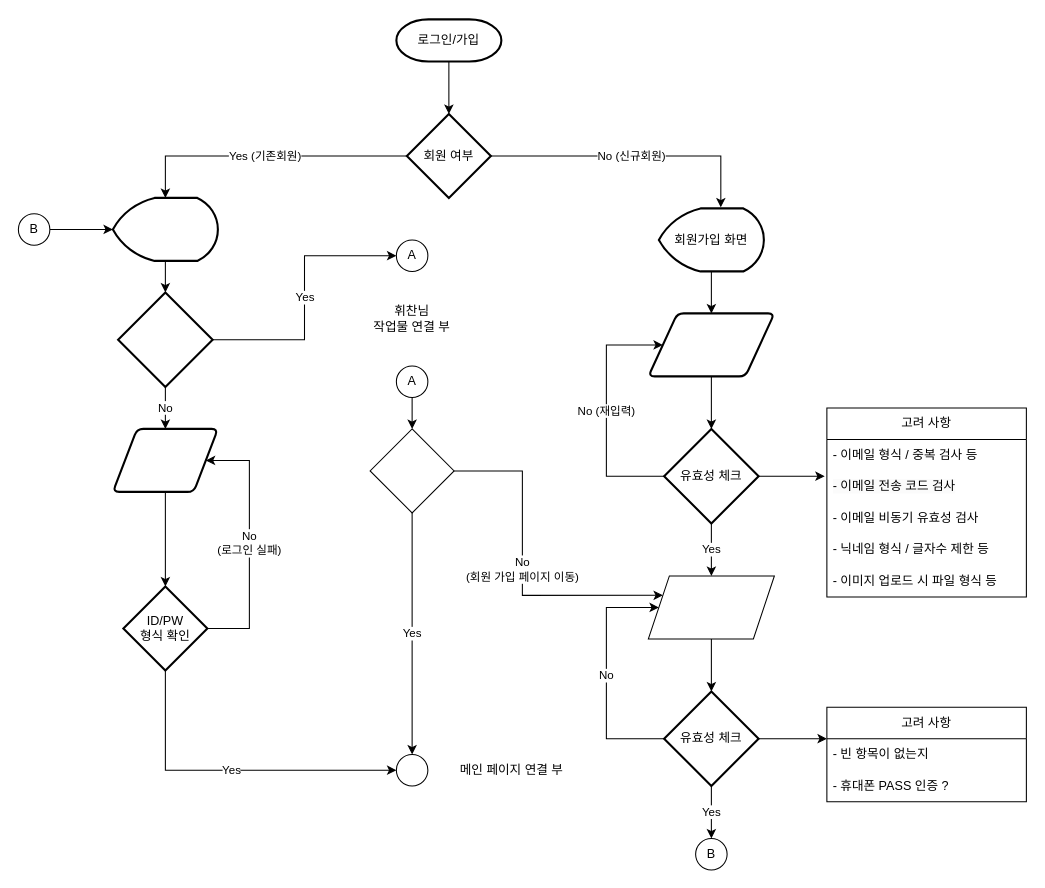
Some shapes in this 1045 by 888 pixel diagram are drawn without their labels. Here are the shapes that lost their labels. From the top down, the centre of each, then its label:
At (164,228): "로그인 화면".
At (165,339): "SNS 로그인 여부".
At (711,344): "이메일 / 닉네임 프로필 이미지 등".
At (164,459): "ID / PW 입력".
At (411,470): "SNS가입이 완료 된 회원인가?".
At (710,607): "회원 정보 입력".
